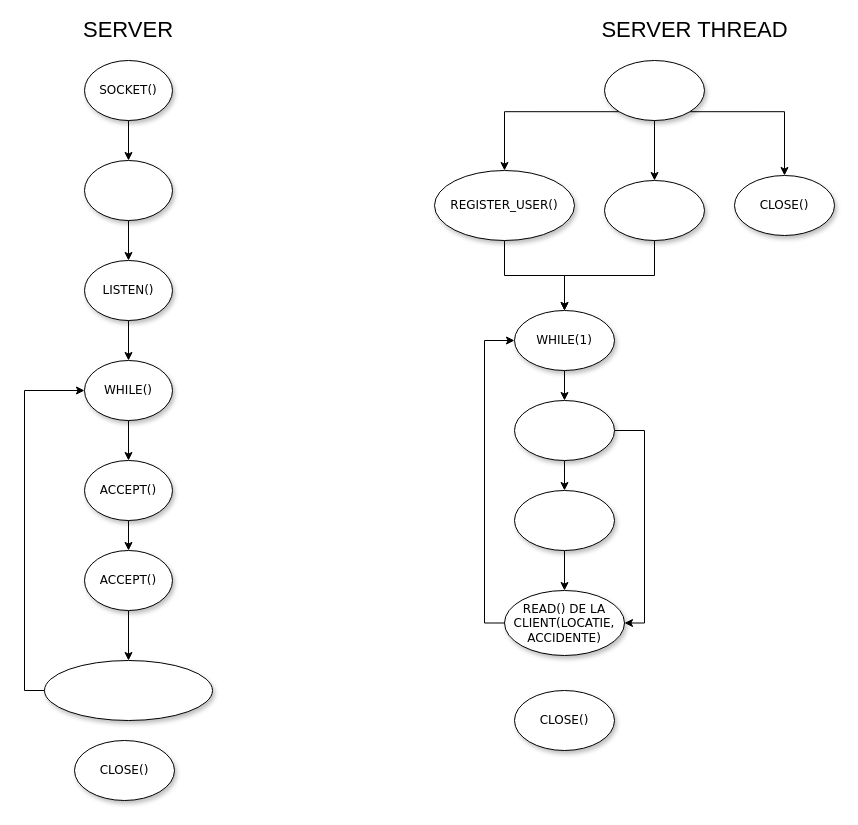
This 858x825 diagram has some shape labels left out. The shapes that lost their labels are listed below. From the top down, each one's centre as x and y in pixels, then its label:
At (x=655, y=92): "READ() DE LA CLIENT".
At (x=129, y=192): "BIND()".
At (x=655, y=212): "LOGIN()".
At (x=565, y=432): "SELECT()".
At (x=565, y=522): "WRITE() CATRE CLIENT".
At (x=129, y=692): "PTHREAD_CREATE()".
